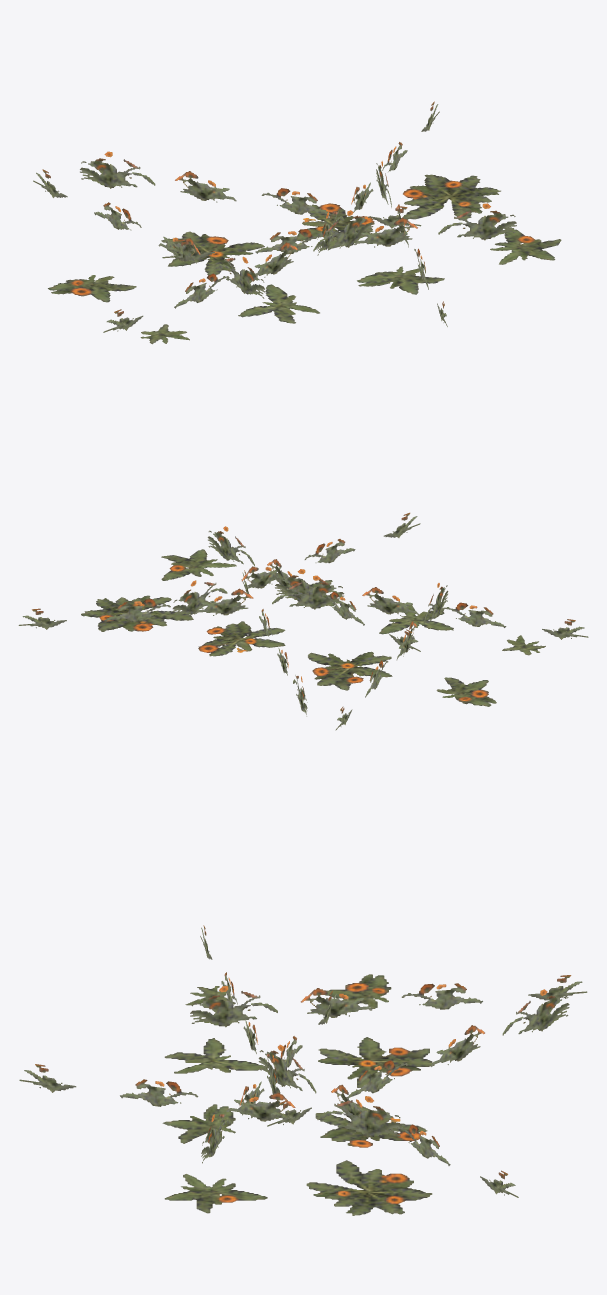
The model's file is scatter_flowers.glb.
3 views of the same model, one above another, from view 1: azimuth 30°, elevation 25°; view 2: azimuth 150°, elevation 25°; view 3: azimuth 270°, elevation 25° (orthographic). The views are drawn at different scales.
Parts seen in each view (by area): view 1: scatter_flowers; view 2: scatter_flowers; view 3: scatter_flowers.
Boxes of the visible parts, x1,y1,x2,y2 form: scatter_flowers: [33, 101, 561, 344]; scatter_flowers: [18, 512, 588, 730]; scatter_flowers: [19, 925, 587, 1215].
Bounding box in the file's own units: 1.06 × 0.35 × 0.9764.
Materials: 1 (1 with a texture image).
